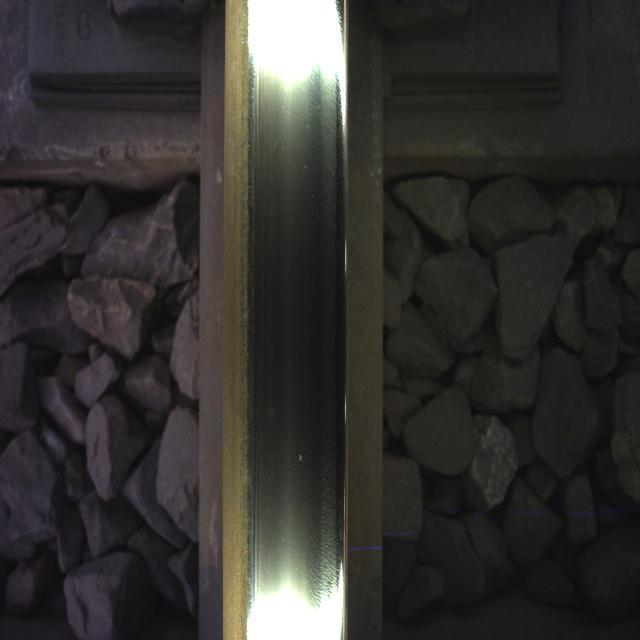break: (251, 40, 334, 548)
